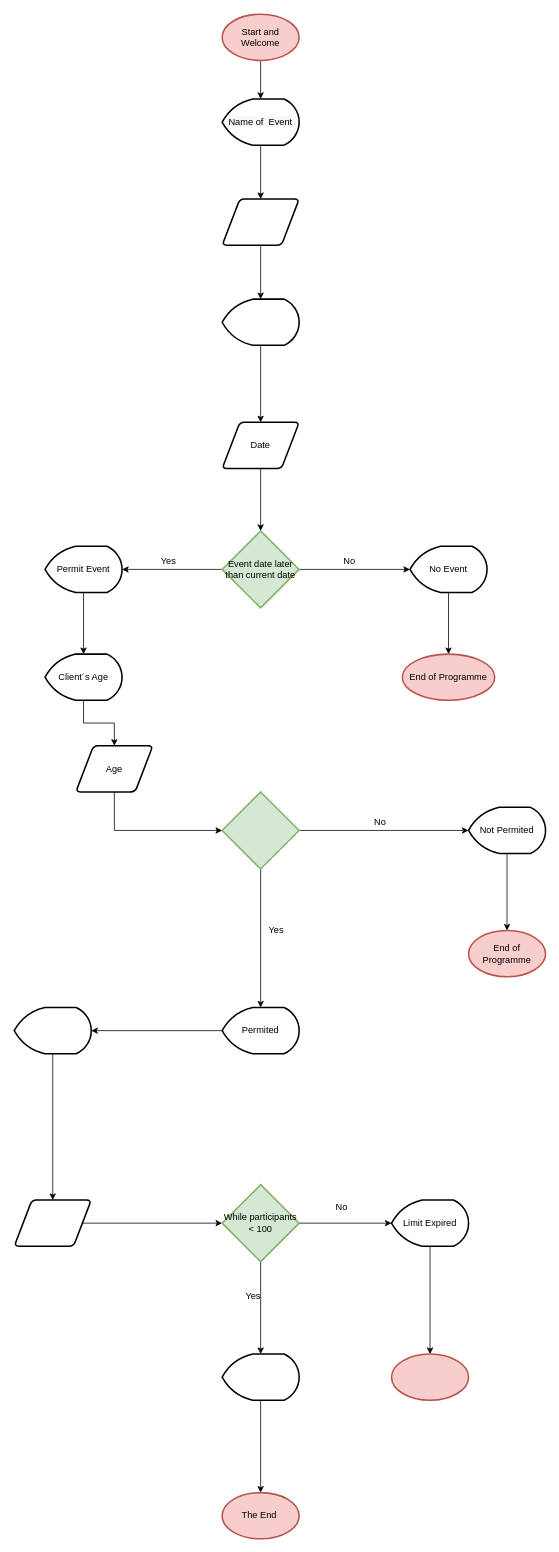
The diagram is 559 pixels wide and 1552 high, and some of its shapes have lost their labels. The shapes that lost their labels are listed below. From the top down, each one's centre as x and y in pixels, then its label:
[260,222]: Event
[260,322]: Date of Event
[260,830]: Is the client under or over 18?
[52,1030]: Participants Quantity
[52,1223]: Participants
[260,1377]: Permit Enrollment
[429,1377]: The End of Programme
